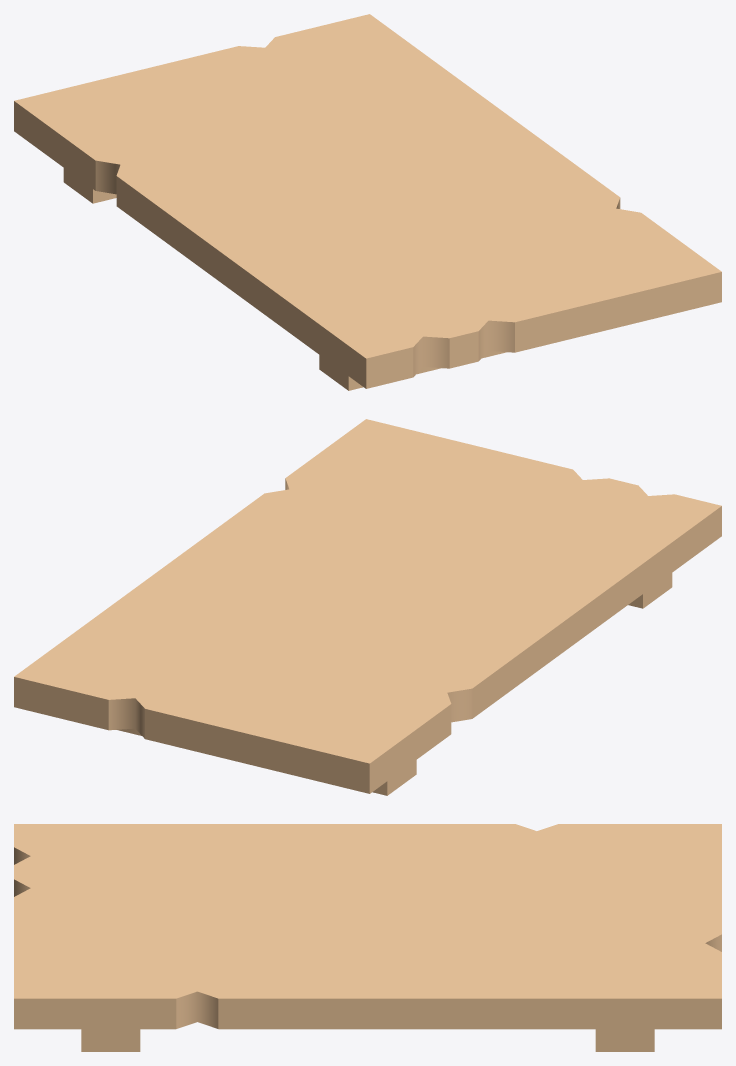
Rendered from cuttingBoardJapanese.obj.
The picture shows the model from 3 angles, top to bottom: view 1: azimuth 30°, elevation 25°; view 2: azimuth 150°, elevation 25°; view 3: azimuth 270°, elevation 25°; orthographic projection.
Visible parts, largest first — view 1: cuttingBoardJapanese; view 2: cuttingBoardJapanese; view 3: cuttingBoardJapanese.
Part boxes in pixels (x1=…): cuttingBoardJapanese: x1=14, y1=14, x2=721, y2=390; cuttingBoardJapanese: x1=14, y1=419, x2=721, y2=795; cuttingBoardJapanese: x1=14, y1=824, x2=721, y2=1051.
Bounding box in the file's own units: 0.49 × 0.08 × 0.84.
